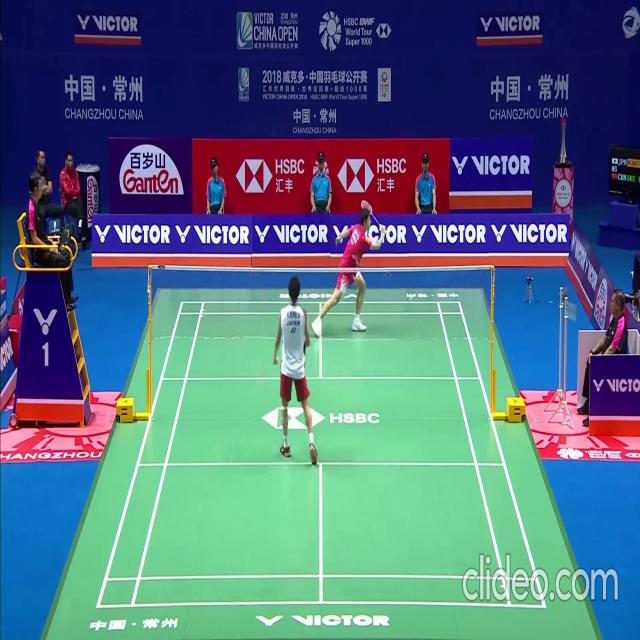Shuttlecock: (409, 293, 414, 300)
